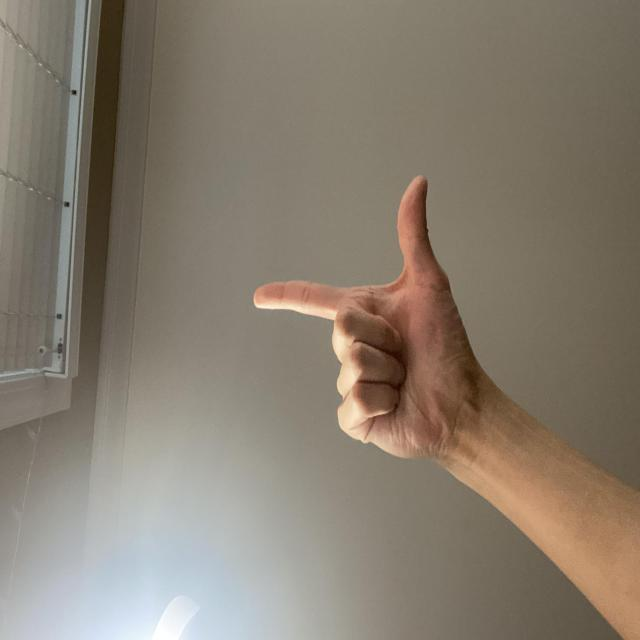L: (131, 334, 352, 640)
